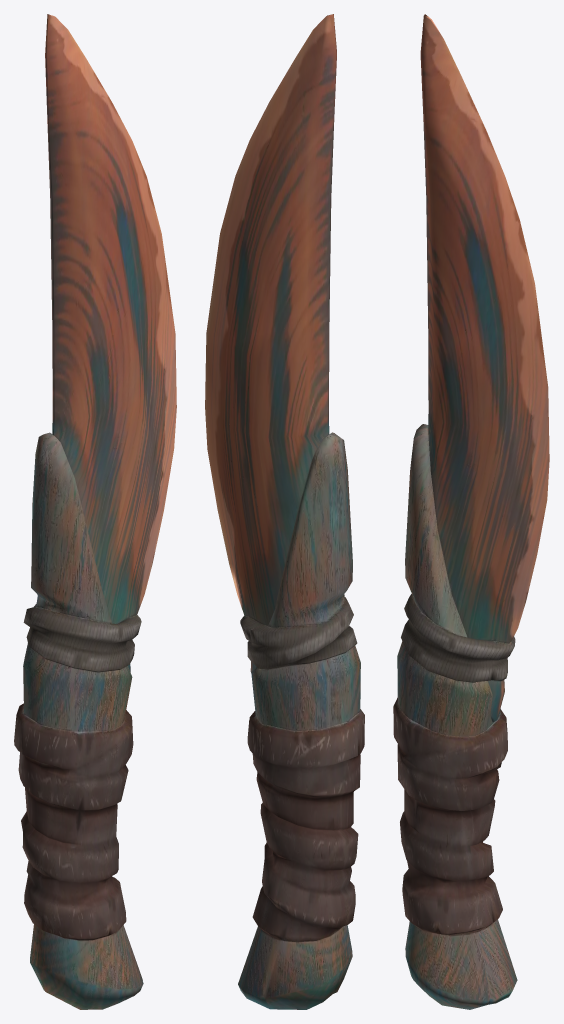
3 renders of one model, left to right at view 1: azimuth 30°, elevation 25°; view 2: azimuth 150°, elevation 25°; view 3: azimuth 330°, elevation 25°, orthographic. The views are drawn at different scales.
Parts seen in each view (by area): view 1: SM_Dagger_Bronze_1H_01_LOD0; view 2: SM_Dagger_Bronze_1H_01_LOD0; view 3: SM_Dagger_Bronze_1H_01_LOD0.
Part boxes in pixels (<box>): SM_Dagger_Bronze_1H_01_LOD0: <box>14,14,176,1009</box>; SM_Dagger_Bronze_1H_01_LOD0: <box>205,14,364,1009</box>; SM_Dagger_Bronze_1H_01_LOD0: <box>393,14,549,1009</box>.
Size of the model in its own units: 0.0897 by 0.5502 by 0.0588.
Materials: 1 (1 with a texture image).
